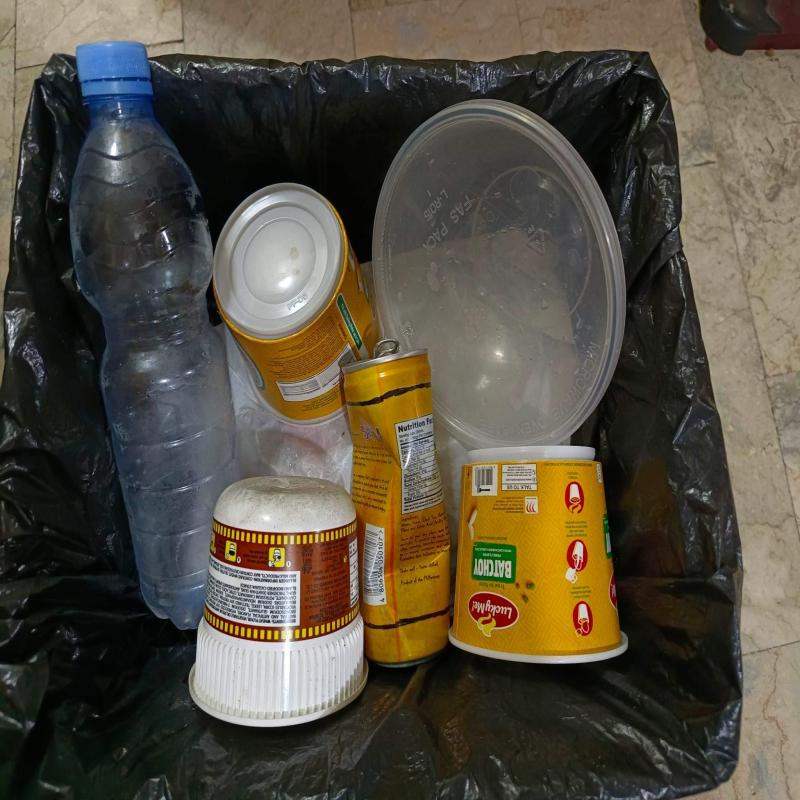aluminum: (339, 354, 454, 672)
plastic bottle: (68, 39, 240, 632)
plastic container: (370, 99, 627, 452), (188, 475, 370, 733), (210, 181, 378, 433), (448, 443, 629, 668)
